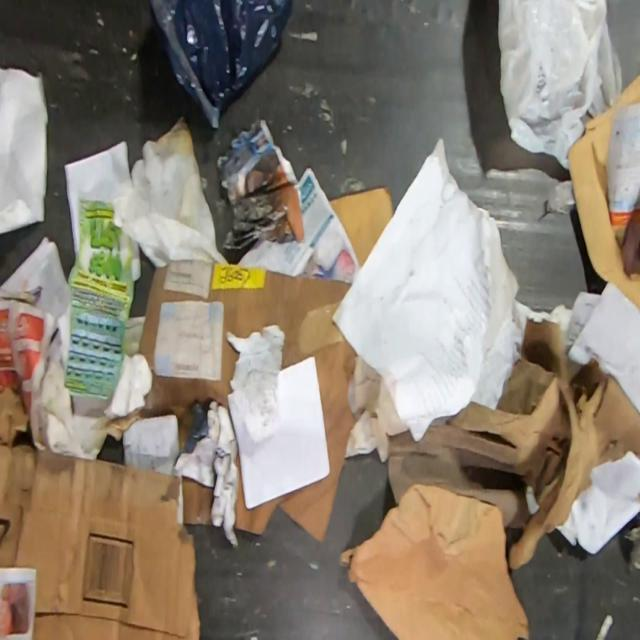cardboard: (385, 317, 640, 571), (0, 383, 202, 639), (338, 484, 530, 640), (566, 72, 640, 316), (327, 186, 394, 268)
soft_plastic: (497, 0, 622, 171), (148, 0, 294, 130)
